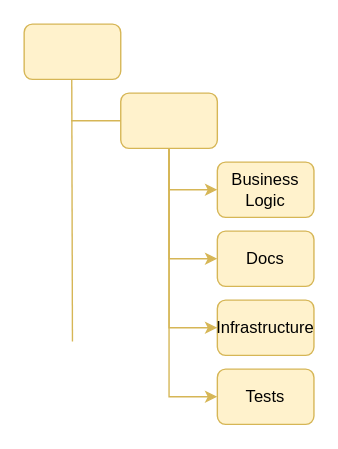
Image size: 338x449. Some labels were removed from this diagram. Each missing label, with the centre of its shape:
"<MODULE>" belongs at pixel 168 120.
"src" belongs at pixel 72 51.
